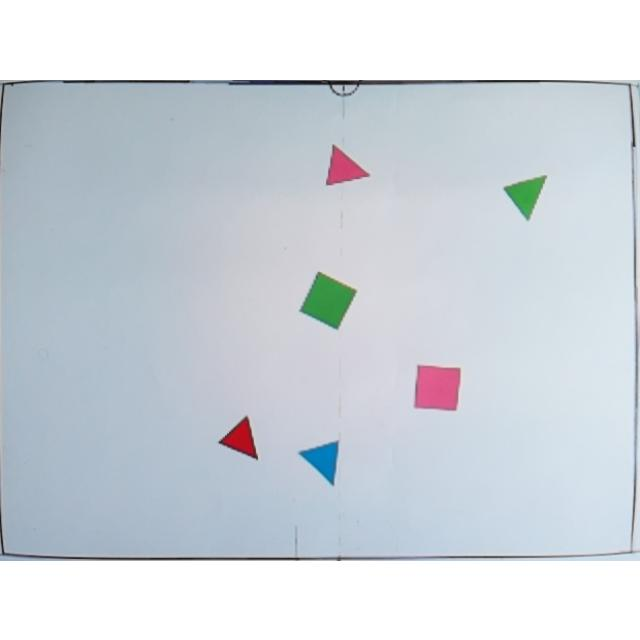blueTriangle: (298, 439, 344, 486)
greenSquare: (300, 270, 358, 330)
greenTriangle: (504, 172, 552, 222)
pinkSquare: (412, 362, 462, 411)
pinkTriangle: (324, 140, 370, 188), (218, 415, 260, 461)
